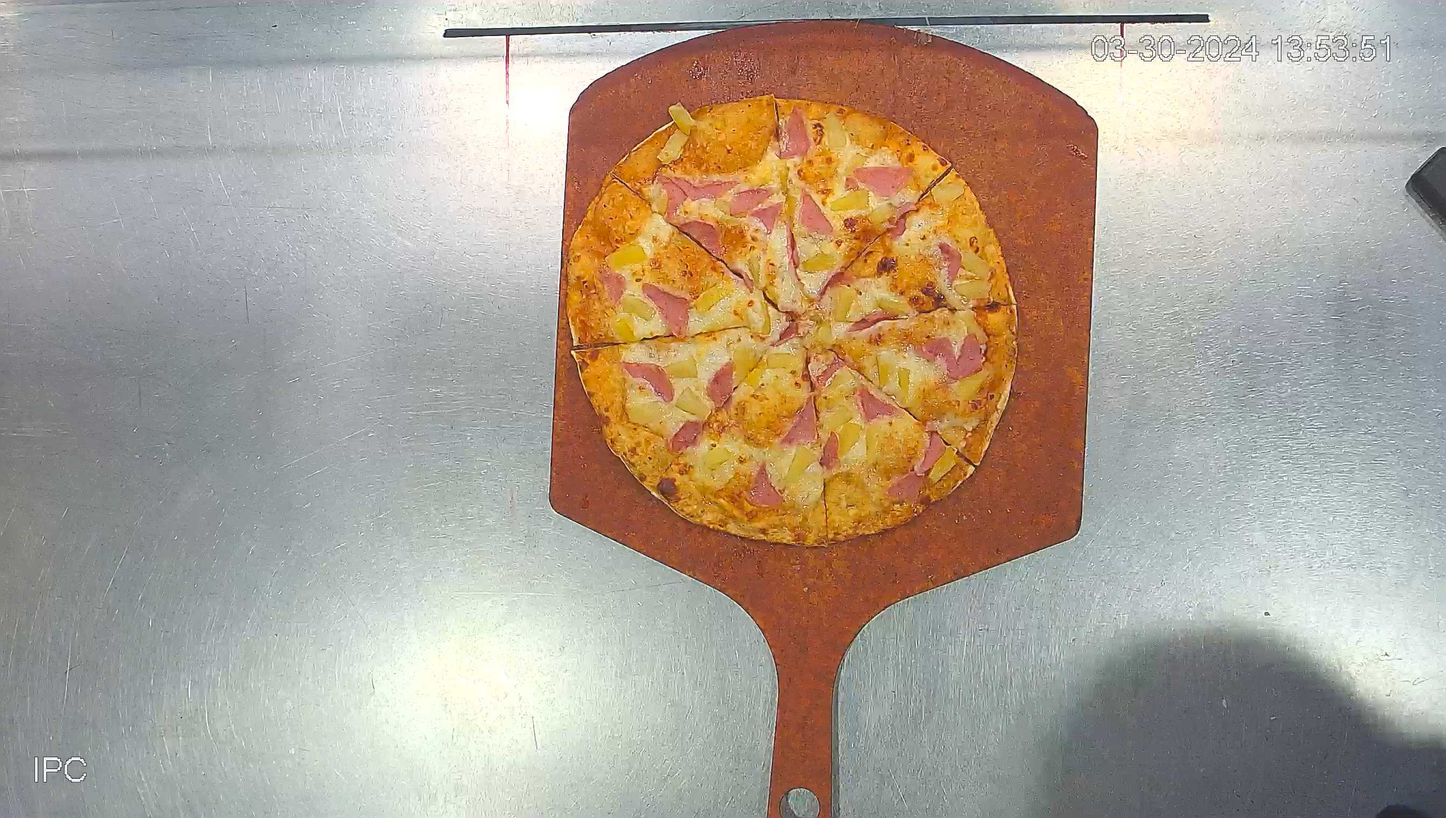manager_choice: (564, 93, 1014, 549)
